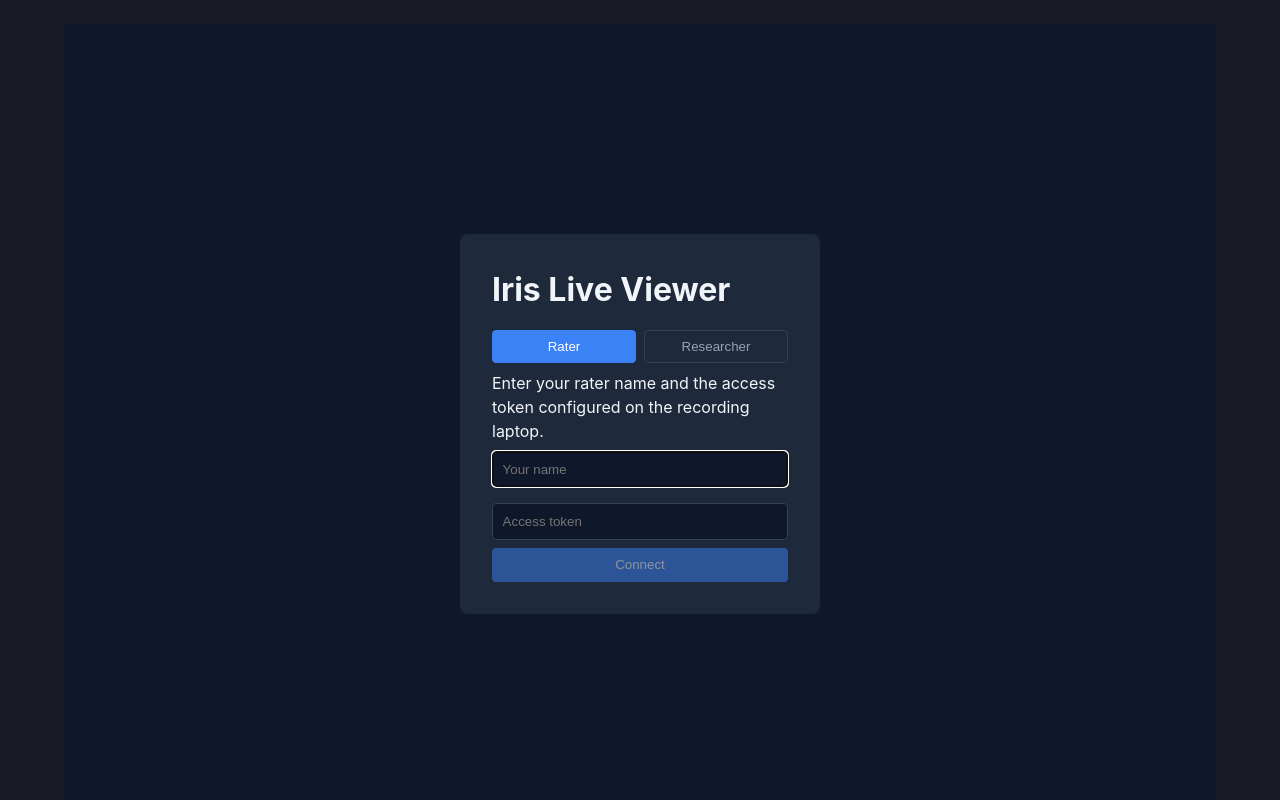
Test: LoginScreen › surfaces server error
This screenshot has width=1280, height=800.
Type "Alice" into the field named "rater name" at (640, 469), box [492,451,788,487]
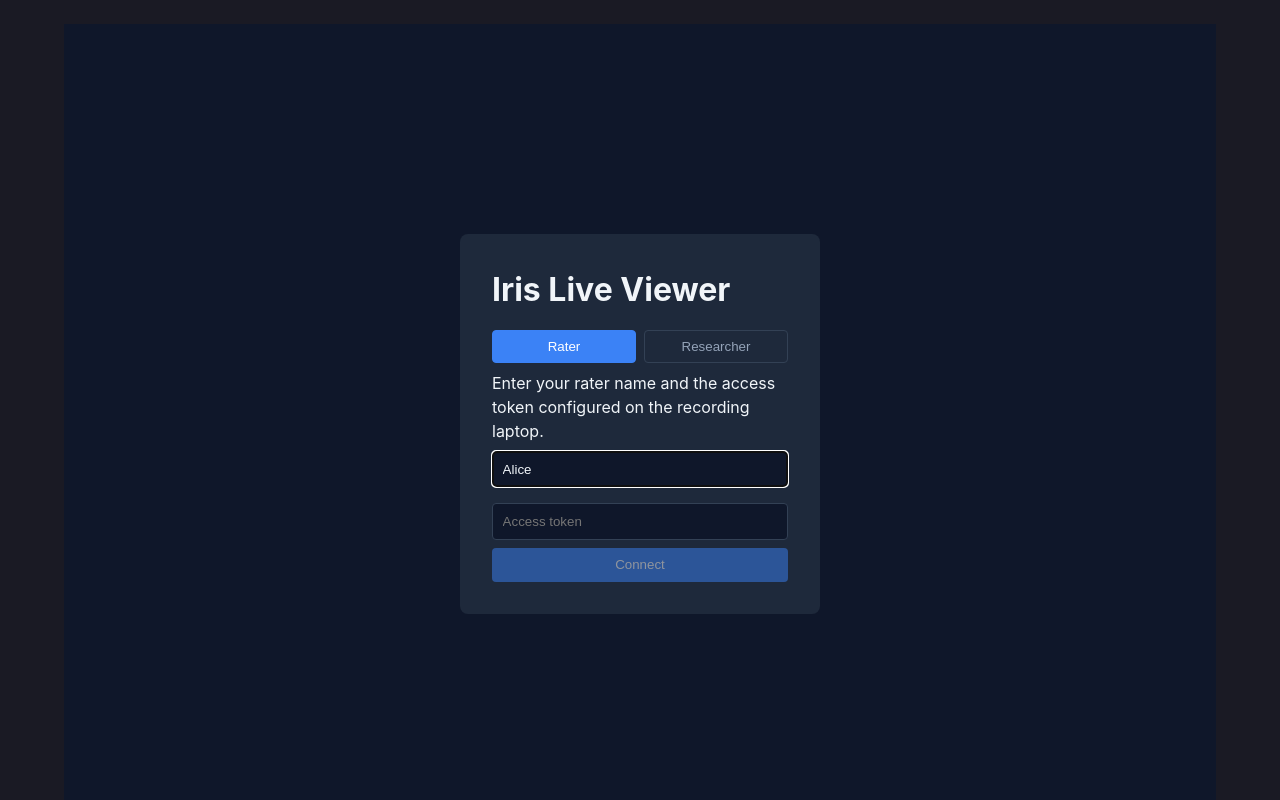
Type "tok" into the password field labelled "Access token" at (640, 522), box [492,503,788,540]
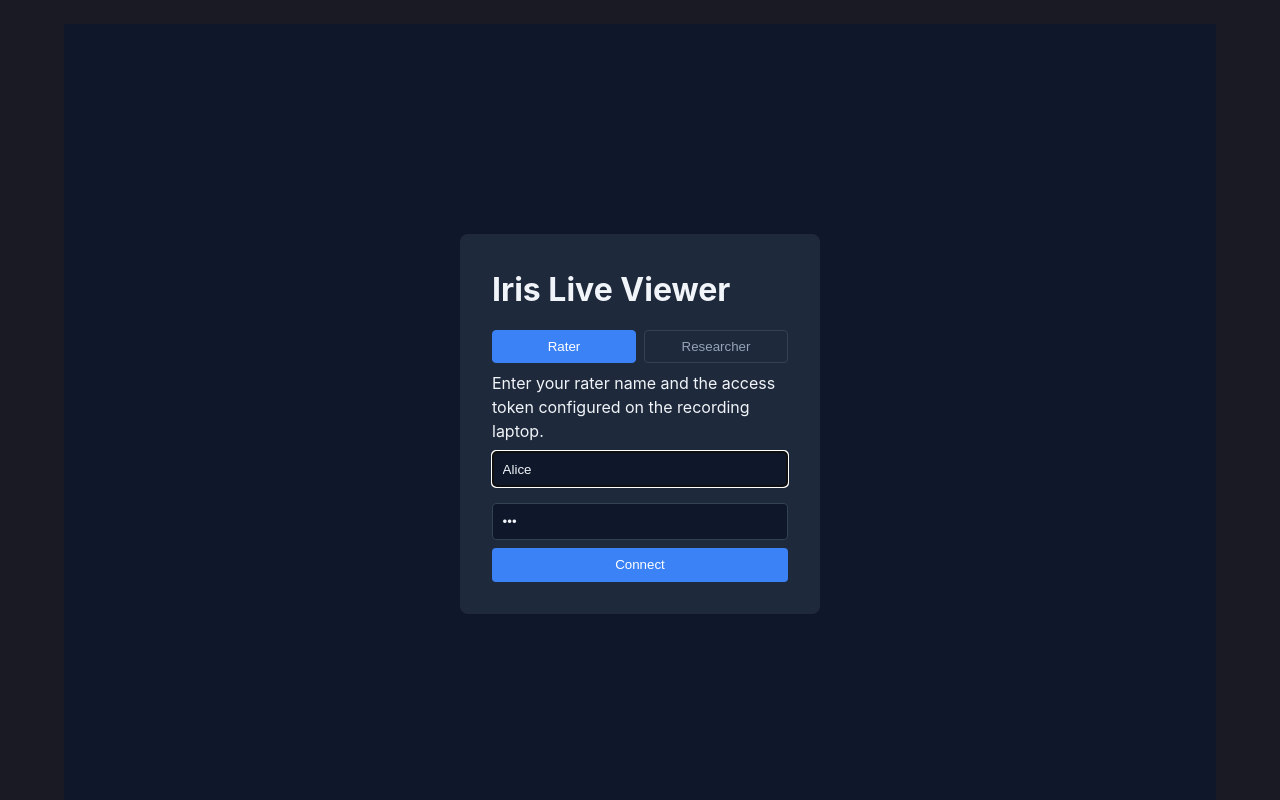
Click the button "Connect" at (640, 565), box [492,548,788,582]
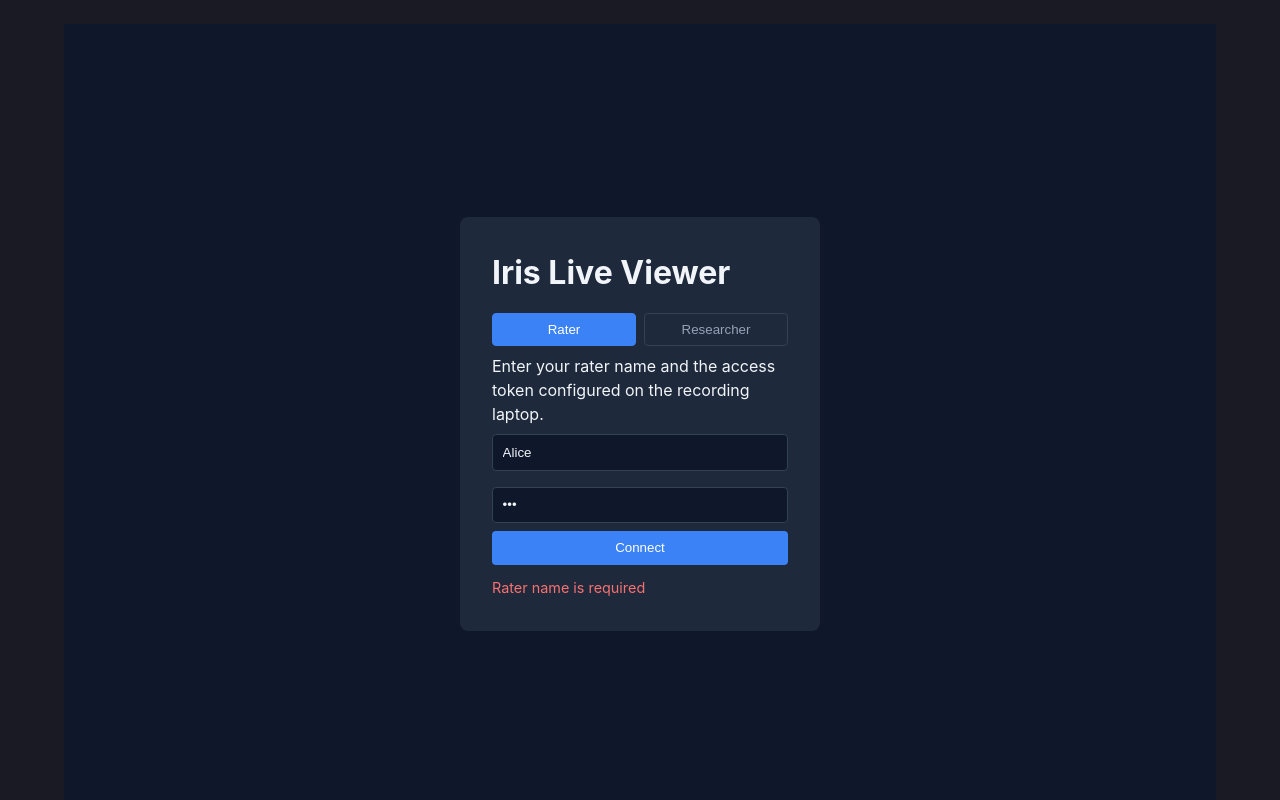
Expected: the message reads "Rater name is required", [492,579,645,596]
